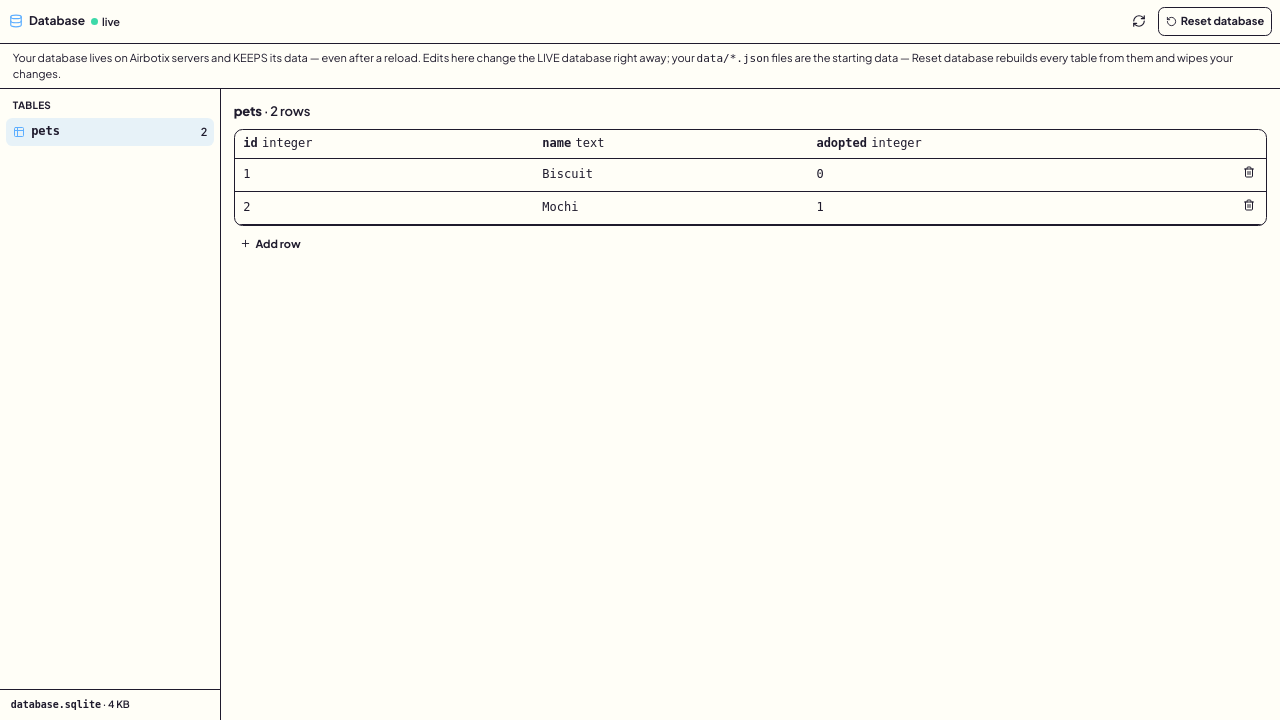
Test case: DbPane — Reset database (two-step inline confirmation) › a failed reset shows the kid-readable error and returns to idle
The width and height of the screenshot is (1280, 720).
Expected: the element with test id "db-collection-pets" is shown, top-left (234, 103), bottom-right (1267, 255)
Step 1. Click the button with test id "db-reset" → (1215, 21), box top-left (1158, 7), bottom-right (1272, 36)
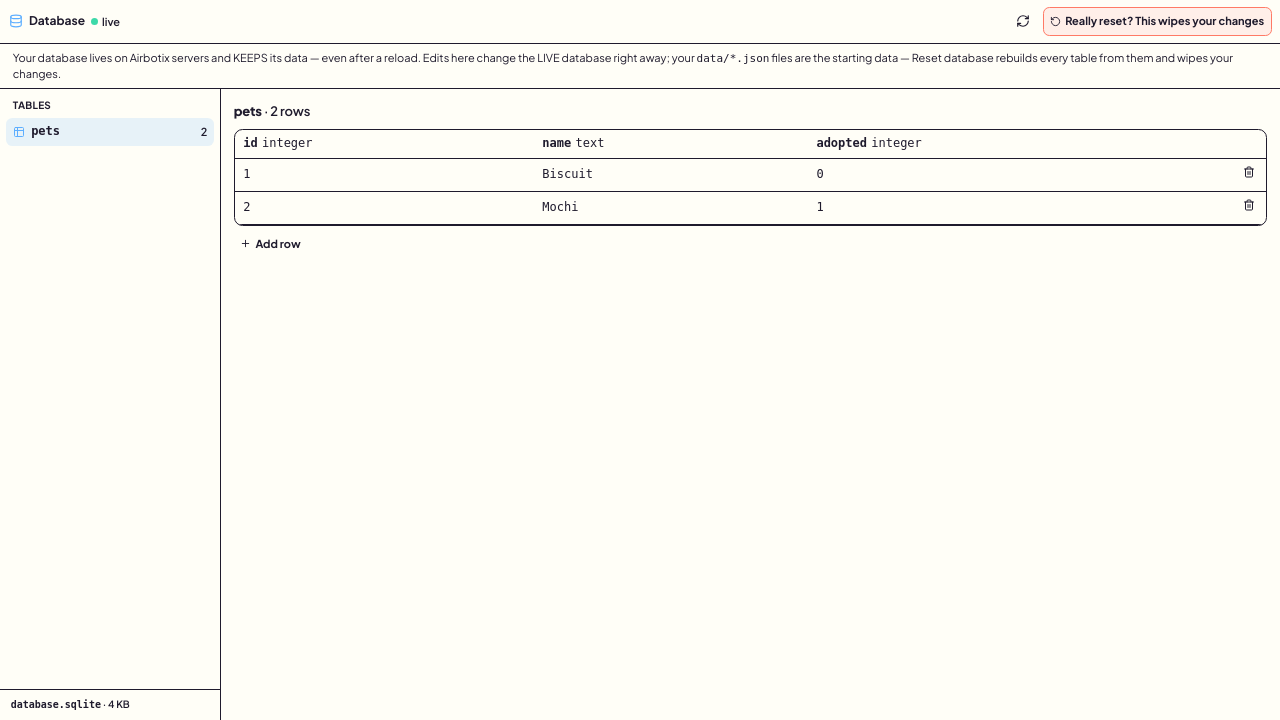
Step 2. Click the button with test id "db-reset" → (1157, 21), box top-left (1042, 7), bottom-right (1272, 36)
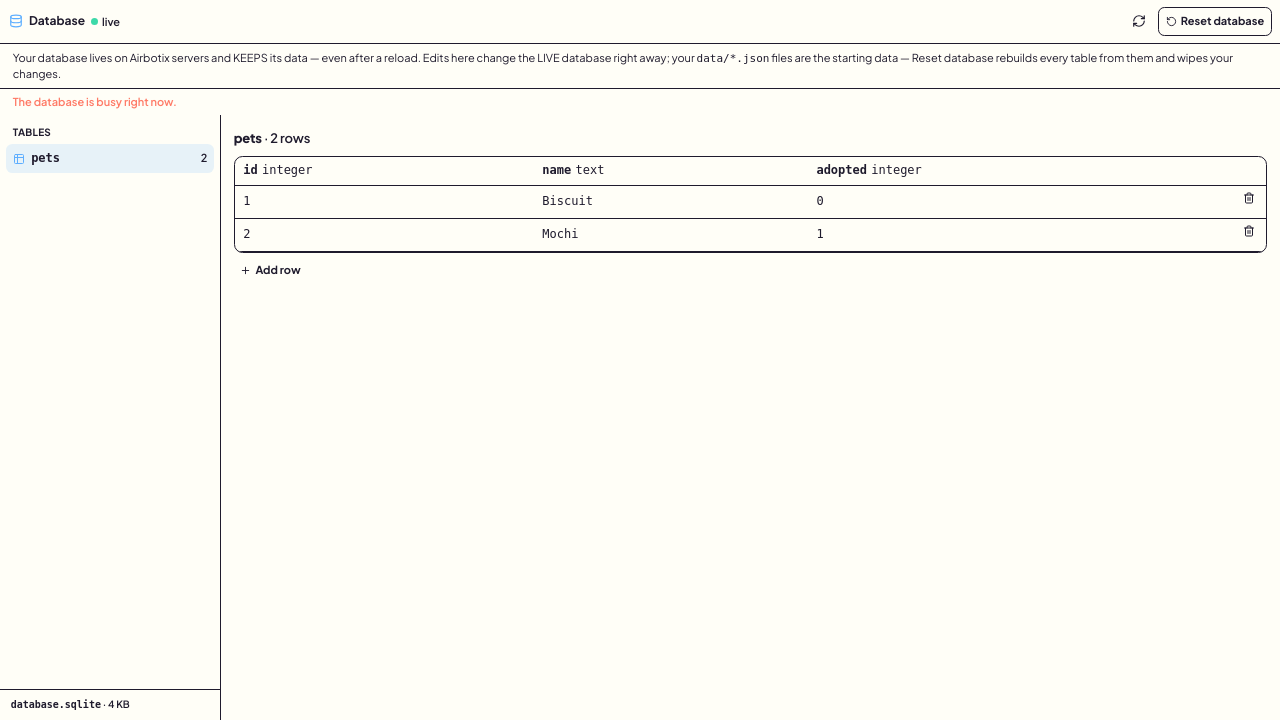
Now the text "The database is busy right now." is shown, box top-left (13, 95), bottom-right (177, 108)
Now the button with test id "db-reset" reads "Reset database", box top-left (1158, 7), bottom-right (1272, 36)
